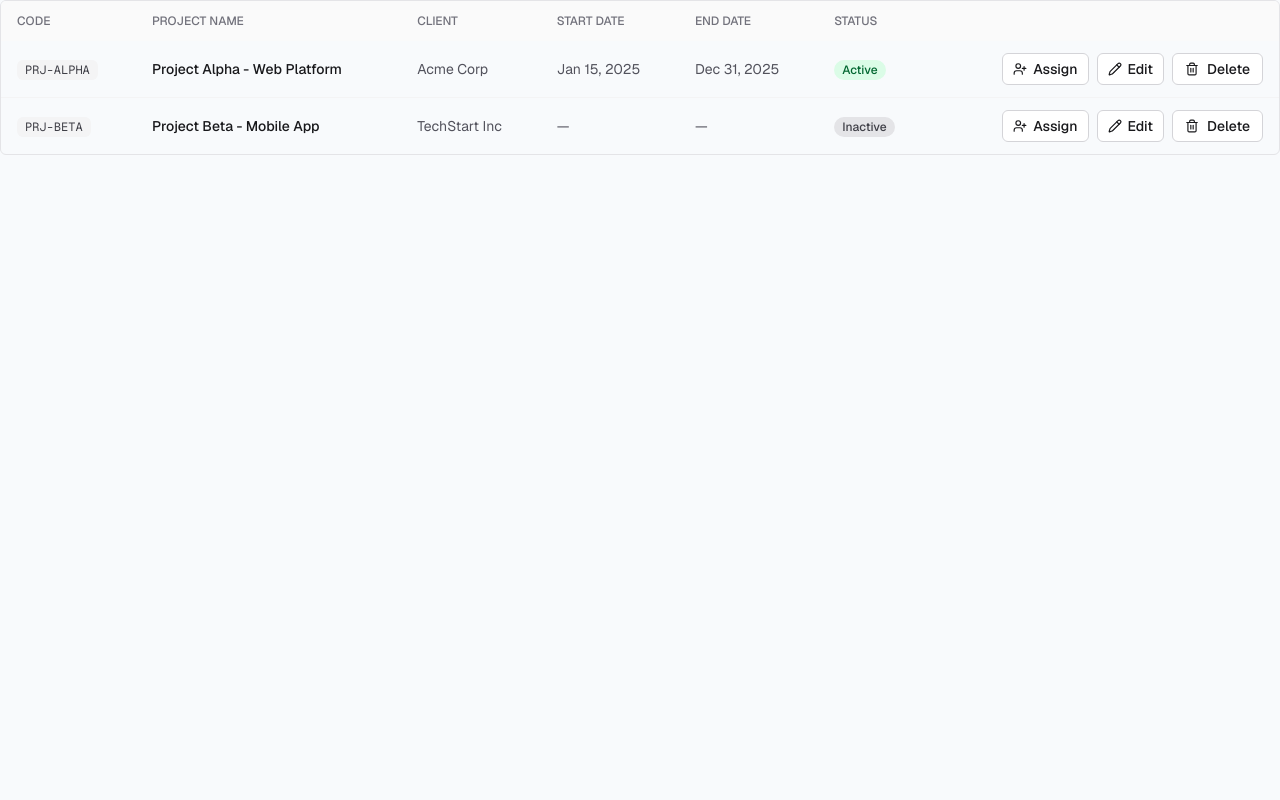
Test: ProjectsTable › closes the confirm dialog without deleting when cancelled
This screenshot has width=1280, height=800.
Check: the text "Project Alpha - Web Platform" is shown, box x1=136 y1=41 x2=401 y2=98
Click the button "Delete" in the row of "PRJ-ALPHA": coordinates (1217, 69) x1=1172 y1=53 x2=1263 y2=85
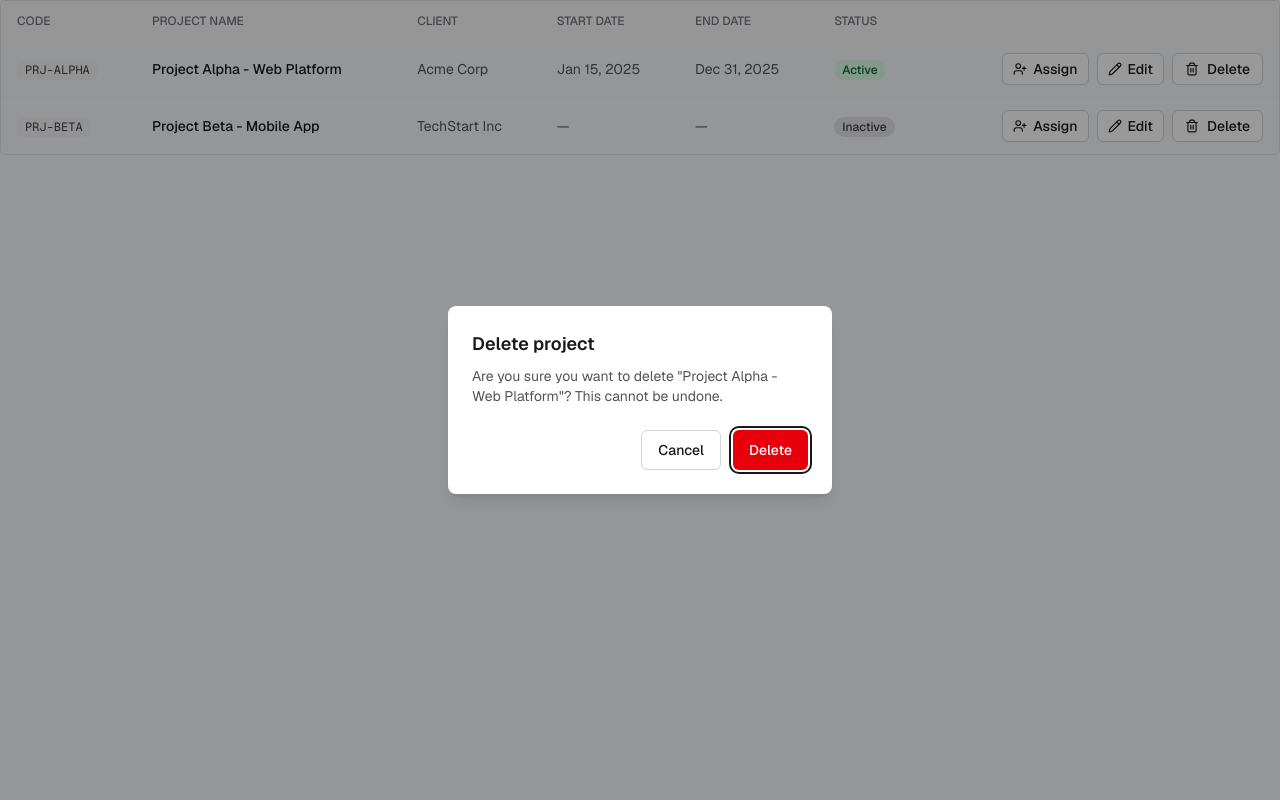
Click the button "Cancel": coordinates (681, 450) x1=641 y1=430 x2=721 y2=470
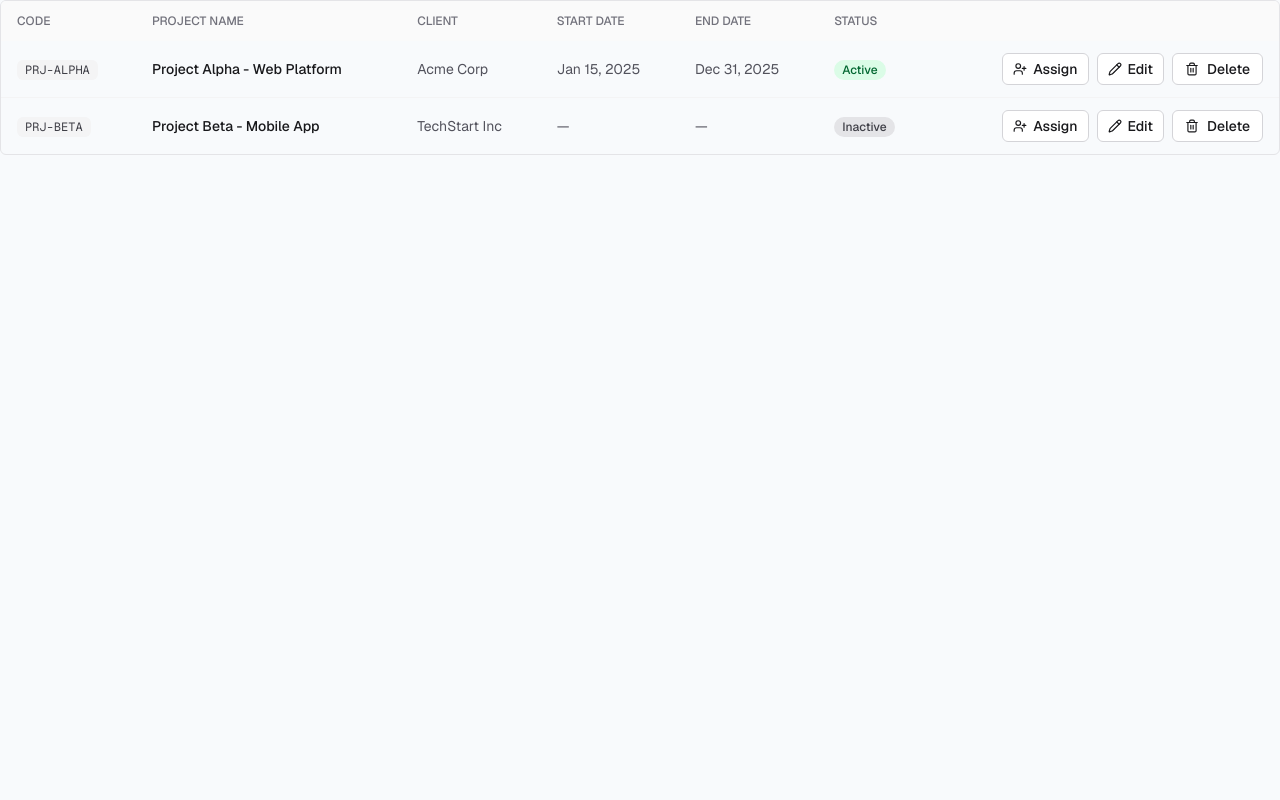
Check: the dialog is gone
